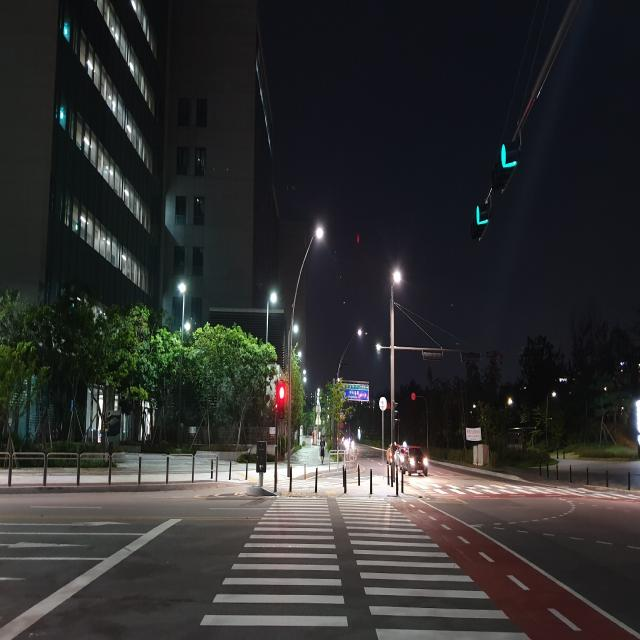빨간불: (276, 382, 284, 422)
횡단보도: (197, 495, 534, 638)
